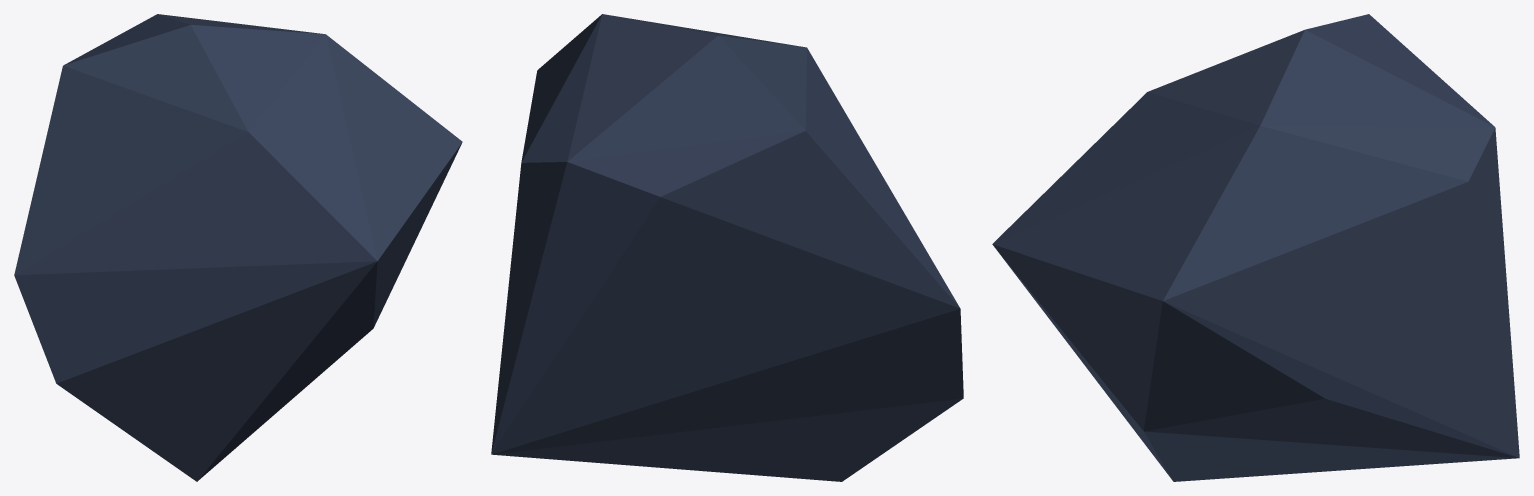
File: Rock_1.fbx
3 renders of one model, left to right at view 1: azimuth 30°, elevation 25°; view 2: azimuth 150°, elevation 25°; view 3: azimuth 270°, elevation 25°, orthographic. The views are drawn at different scales.
Visible parts, largest first — view 1: Rock 1; view 2: Rock 1; view 3: Rock 1.
Boxes of the visible parts, x1,y1,x2,y2 form: Rock 1: [14, 14, 462, 481]; Rock 1: [491, 14, 963, 481]; Rock 1: [992, 14, 1519, 481].
Size of the model in its own units: 179 by 172 by 171.
